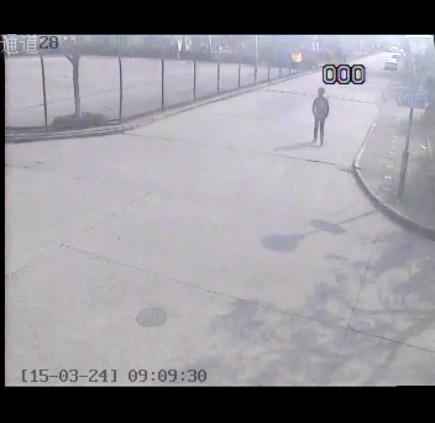person: (310, 84, 330, 150)
